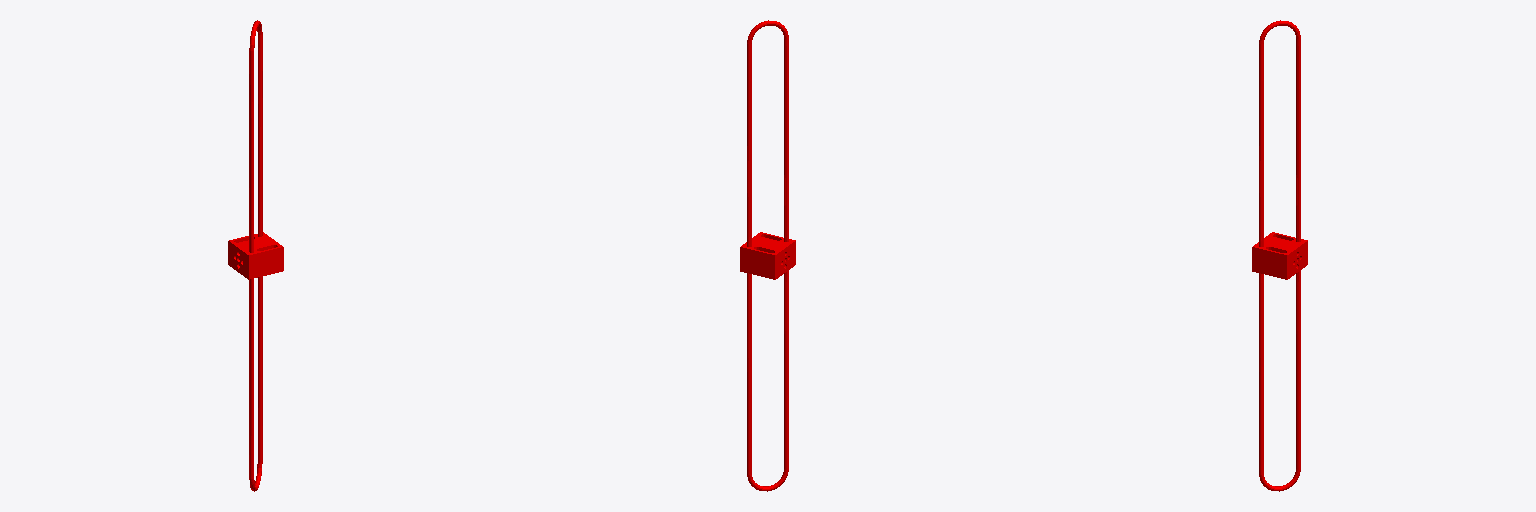
robot.urdf — communication_module_with_antenna:
<?xml version="1.0" encoding="utf-8"?>
<!-- This URDF was automatically created by SolidWorks to URDF Exporter! Originally created by Stephen Brawner ([email redacted]) 
     Commit Version: 1.5.1-0-g916b5db  Build Version: 1.5.7152.31018
     For more information, please see http://wiki.ros.org/sw_urdf_exporter -->

<robot
  name="communication_module_with_antenna">
  <!--gazebo reference="communication_module_with_antenna">
    <material name="Red">
      <color rgba="1 0 0 1"/>
    </material>
  </gazebo-->
  <!-- <gazebo reference="communication_module_with_antenna">
    <script>
      <uri>package://communication_module_with_antenna/materials/repeated.material</uri>
      <name>RepeatedTexture</name>
    </script>
  </gazebo> -->

  <link
    name="communication_module_with_antenna">
    <inertial>
      <origin
        xyz="-2.506E-17 1.8397E-17 4.7957E-17"
        rpy="0 0 0" />
      <mass
        value="0.35324" />
      <inertia
        ixx="0.012159"
        ixy="-9.6779E-05"
        ixz="2.76111910841712E-20"
        iyy="0.012161"
        iyz="-7.0539699945927E-19"
        izz="0.00039152" />
    </inertial>
    <visual>
      <origin
        xyz="0 0 0"
        rpy="1.5707963267949 0 0" />
      <geometry>
        <mesh
          filename="package://communication_module_with_antenna/meshes/communication_module_with_antenna.STL" />
      </geometry>
      <material
        name="module">
        <color
          rgba="1 0 0 1" />
          <lighting>1</lighting>
          <!-- <script>
            <uri>package://communication_module_with_antenna/materials/repeated.material</uri>
            <name>RepeatedTexture</name>
          </script> -->
          <!--shader type='pixel'>
            <normal_map>__default__</normal_map>
          </shader>
          <ambient>0 0.7 0.7 1</ambient>
          <diffuse>0 0.7 0.7 1</diffuse>
          <specular>0 0.7 0.7 1</specular>
          <emissive>0 0 0 1</emissive-->
        <!--texture
          filename="package://communication_module_with_antenna/textures/" /-->
      </material>
    </visual>
    <collision>
      <origin
        xyz="0 0 0"
        rpy="1.5707963267949 0 0" />
      <geometry>
        <mesh
          filename="package://communication_module_with_antenna/meshes/communication_module_with_antenna.STL" />
      </geometry>
    </collision>
  </link>
</robot>

--- What the picture shows (computed from the rendered views, not written in the file) ---
3 views of the same robot in one strip: view 1: azimuth 30°, elevation 25°; view 2: azimuth 150°, elevation 25°; view 3: azimuth 330°, elevation 25° (orthographic).
Robot: communication_module_with_antenna — 1 links, 0 joints (none); root link communication_module_with_antenna; default pose: every joint at zero.
Links seen in each view (by area): view 1: communication_module_with_antenna; view 2: communication_module_with_antenna; view 3: communication_module_with_antenna.
Link boxes in pixels (x1,y1,x2,y2): communication_module_with_antenna: (228, 20, 283, 491); communication_module_with_antenna: (740, 20, 795, 491); communication_module_with_antenna: (1252, 20, 1307, 491).
Size in the robot's own frame: 0.0762 by 0.0762 by 0.9714 metres.
1 mesh visuals loaded from 1 distinct referenced files (1 binary STL).
